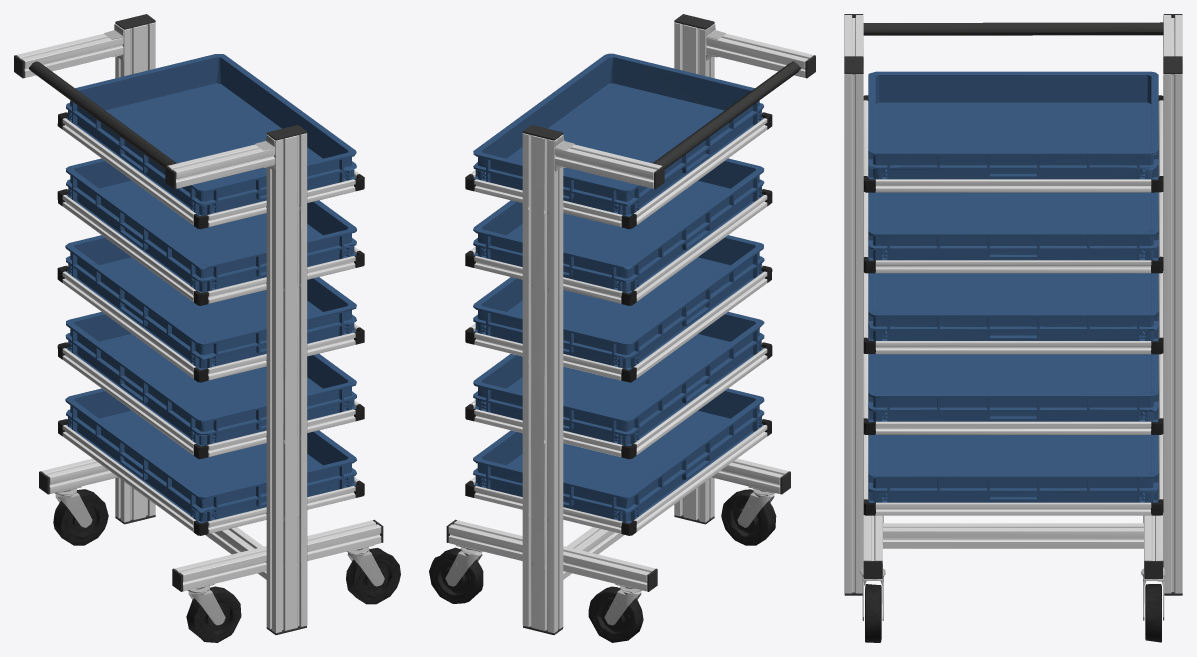
Rendered from cart_multi_tier.glb.
3 views of the same model, side by side, from view 1: azimuth 30°, elevation 25°; view 2: azimuth 150°, elevation 25°; view 3: azimuth 270°, elevation 25° (orthographic). The views are drawn at different scales.
Visible parts, largest first — view 1: cart_multi_tier_mesh; view 2: cart_multi_tier_mesh; view 3: cart_multi_tier_mesh.
Boxes of the visible parts, left/top/right/bottom form: cart_multi_tier_mesh: left=14, top=14, right=400, bottom=642; cart_multi_tier_mesh: left=429, top=14, right=815, bottom=642; cart_multi_tier_mesh: left=844, top=14, right=1182, bottom=642.
Bounding box in the file's own units: 0.5959 × 1.2 × 0.7.
5 materials, 1 textured.
